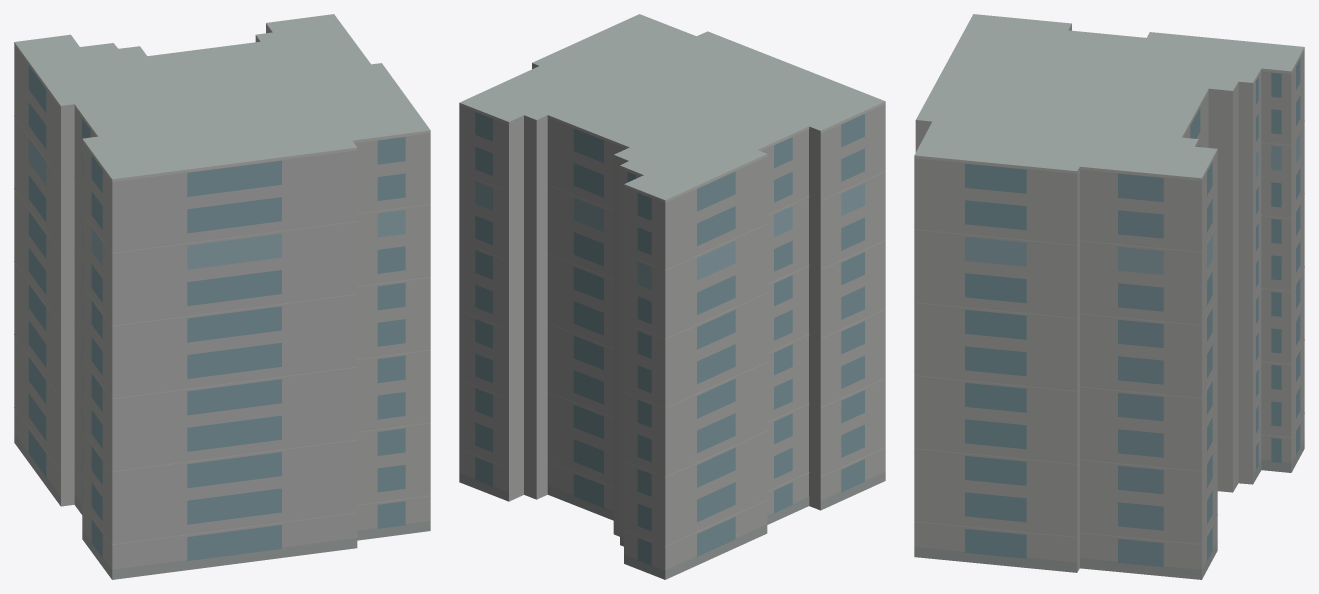
Rendered from survey-upis-32465397.glb.
3 views of the same model, side by side, from view 1: azimuth 30°, elevation 25°; view 2: azimuth 150°, elevation 25°; view 3: azimuth 270°, elevation 25° (orthographic). The views are drawn at different scales.
Parts seen in each view (by area): view 1: survey-upis-32465397.tmp; view 2: survey-upis-32465397.tmp; view 3: survey-upis-32465397.tmp.
Part boxes in pixels (<box>): survey-upis-32465397.tmp: <box>14,14,430,579</box>; survey-upis-32465397.tmp: <box>459,14,885,579</box>; survey-upis-32465397.tmp: <box>914,14,1304,579</box>.
Bounding box in the file's own units: 30.91 × 35.2 × 31.03.
